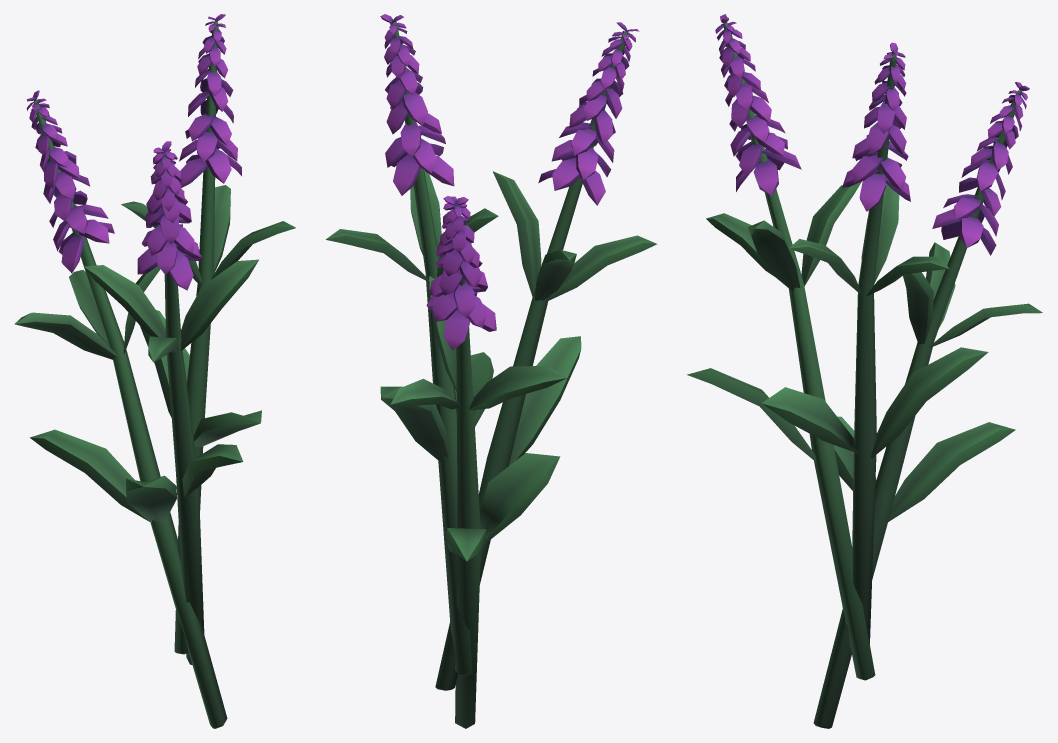
File: SM_Sage_A.fbx
The picture shows the model from 3 angles, left to right: view 1: azimuth 30°, elevation 25°; view 2: azimuth 150°, elevation 25°; view 3: azimuth 270°, elevation 25°; orthographic projection. The views are drawn at different scales.
Parts seen in each view (by area): view 1: SM_Sage_A; view 2: SM_Sage_A; view 3: SM_Sage_A.
Boxes of the visible parts, x1,y1,x2,y2 form: SM_Sage_A: [14, 14, 295, 728]; SM_Sage_A: [325, 14, 657, 728]; SM_Sage_A: [687, 14, 1042, 728].
Bounding box in the file's own units: 20.85 × 61.9 × 28.66.
